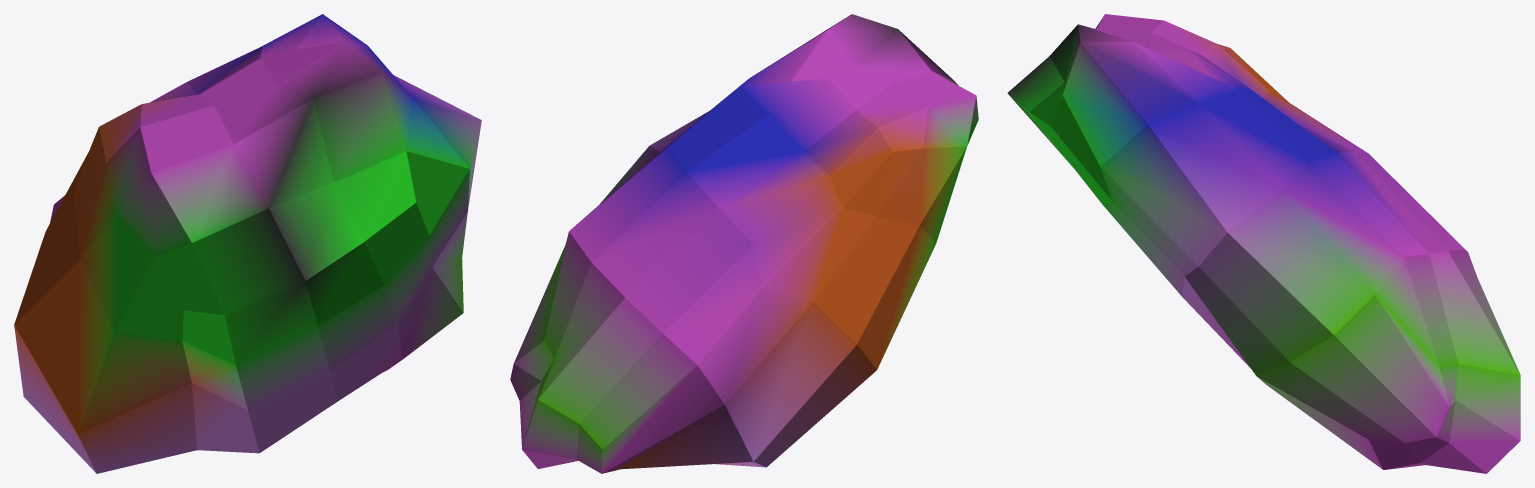
Rendered from rockclr2.gltf.
The picture shows the model from 3 angles, left to right: view 1: azimuth 30°, elevation 25°; view 2: azimuth 150°, elevation 25°; view 3: azimuth 270°, elevation 25°; orthographic projection. The views are drawn at different scales.
Visible parts, largest first — view 1: Rock.Landscape.Style_2.002; view 2: Rock.Landscape.Style_2.002; view 3: Rock.Landscape.Style_2.002.
Part boxes in pixels (left/top/right/bottom): Rock.Landscape.Style_2.002: left=14, top=14, right=481, bottom=473; Rock.Landscape.Style_2.002: left=510, top=14, right=978, bottom=473; Rock.Landscape.Style_2.002: left=1007, top=14, right=1520, bottom=473.
Size of the model in its own units: 1.77 by 1.85 by 2.33.
